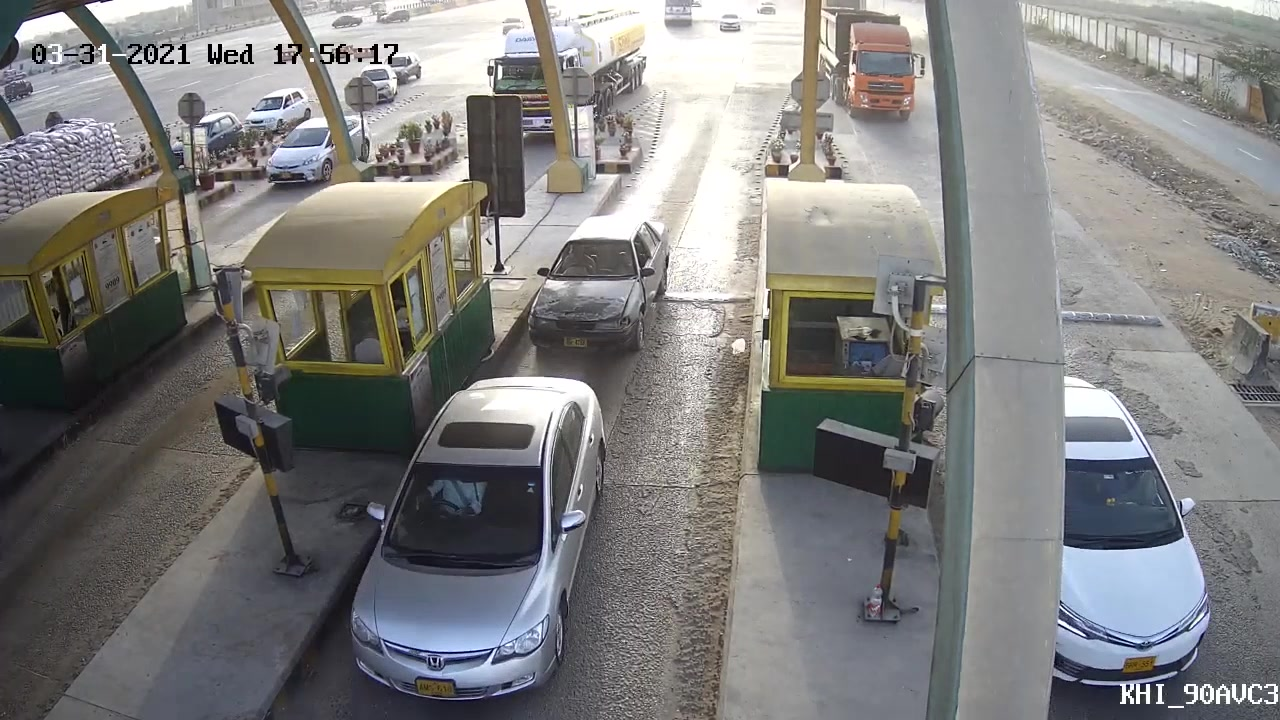F1: (319, 373, 616, 709), (525, 209, 672, 361)
